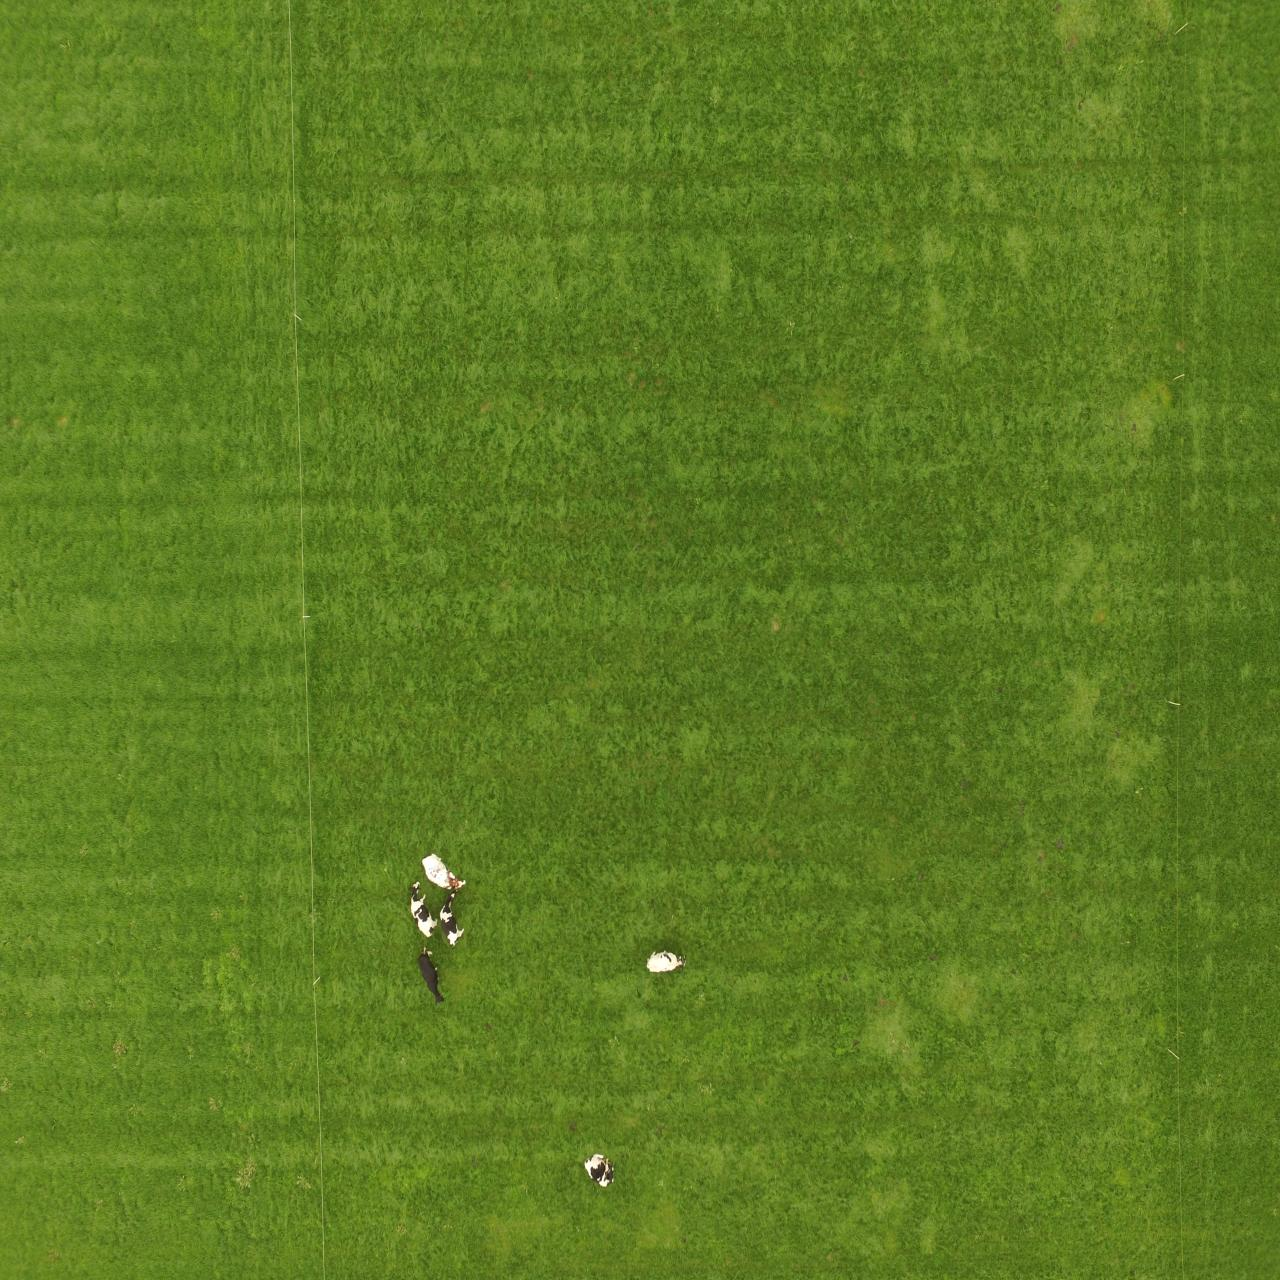cow: (415, 945, 449, 1013), (422, 849, 469, 891), (404, 880, 435, 938), (442, 891, 469, 946), (586, 1152, 619, 1192), (645, 951, 689, 979)
